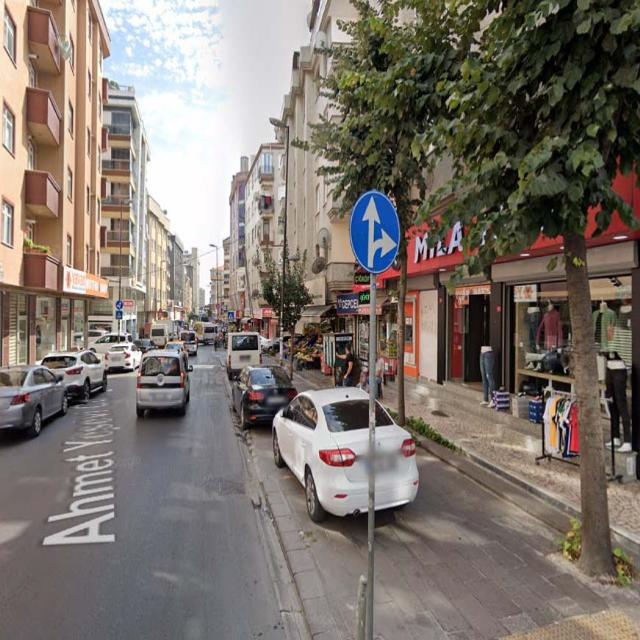ilerisag: (350, 189, 400, 274)
